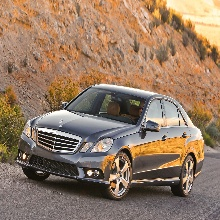no damage: (17, 82, 206, 202)
